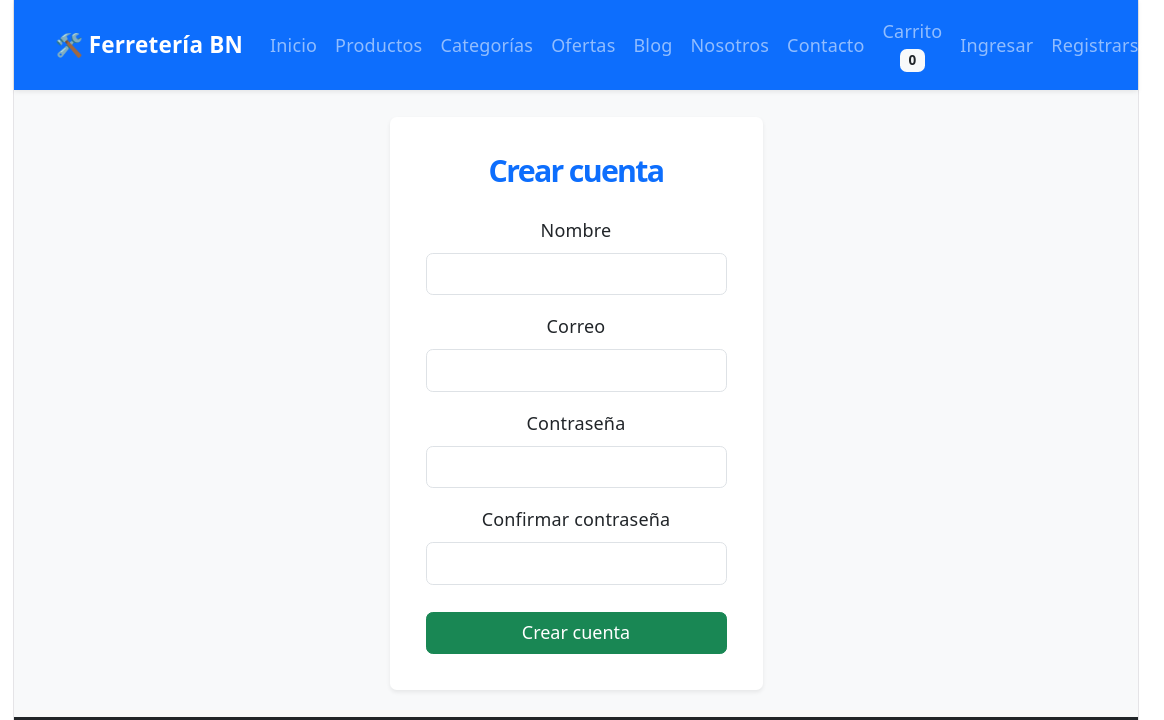
Test: Registro (página) › muestra errores si los campos están vacíos
Click the button "Crear cuenta" at x=576, y=633, box [426, 612, 726, 654]
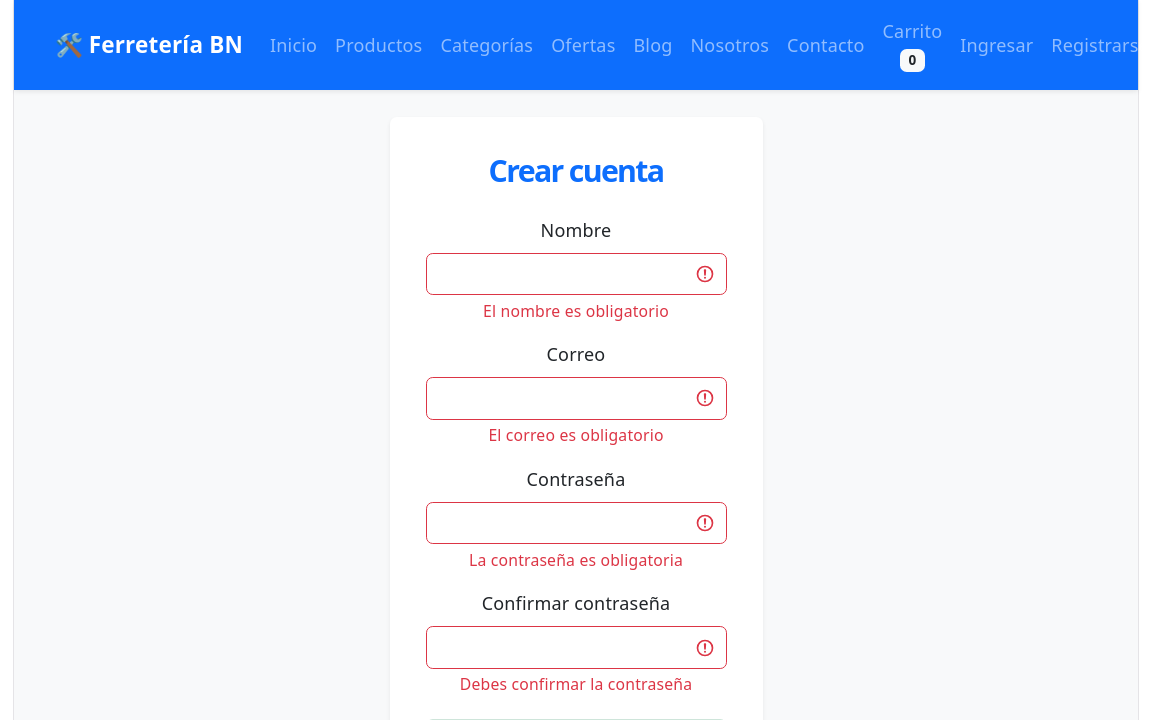
Now the text "El nombre es obligatorio" is shown, box [483, 300, 669, 322]
